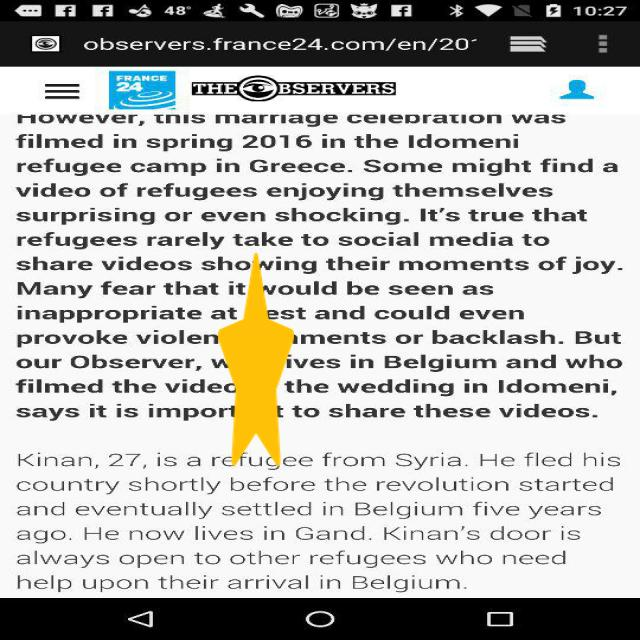forced continuity: (218, 253, 294, 467)
